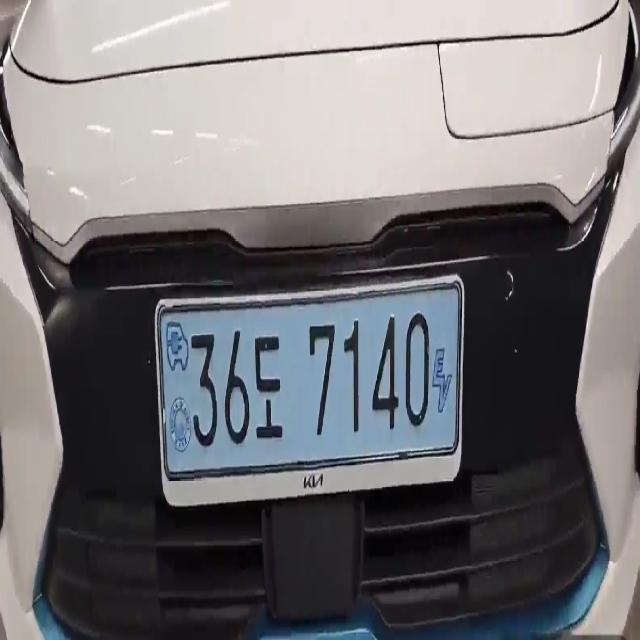car: (156, 276, 462, 488)
carev: (161, 319, 193, 466), (426, 328, 455, 451)
